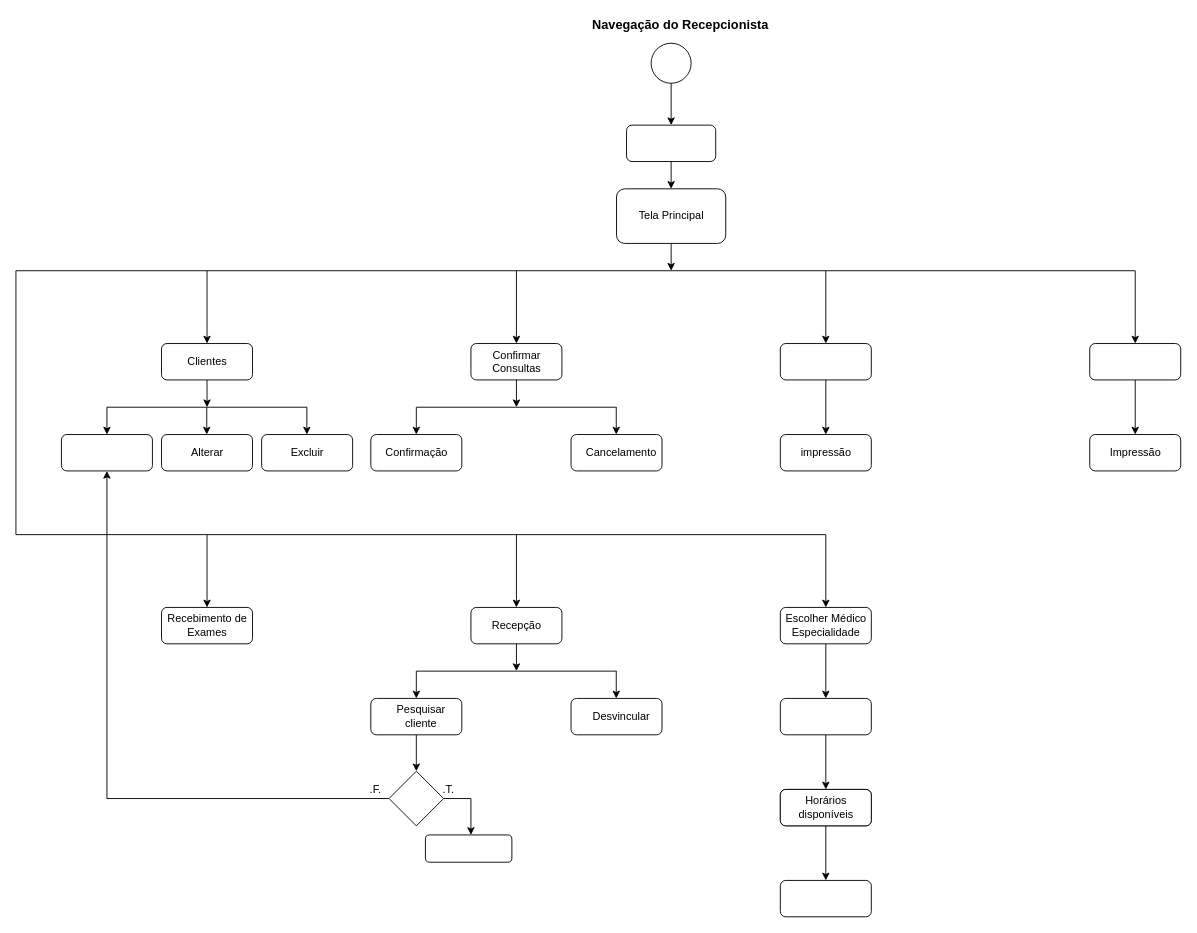
Image size: 1197x933. Some labels were removed from this diagram. Here are the shapes that lost their labels. From the top down, the box of each, then its label:
(626, 124, 716, 162): login
(779, 343, 871, 380): Imprimir Recibos
(1089, 343, 1181, 380): Segunda via Receitas
(61, 434, 152, 471): Cadastrar
(779, 698, 871, 735): Agendar Consulta
(425, 834, 512, 862): Vincular
(779, 880, 871, 917): Dados Agendamento
